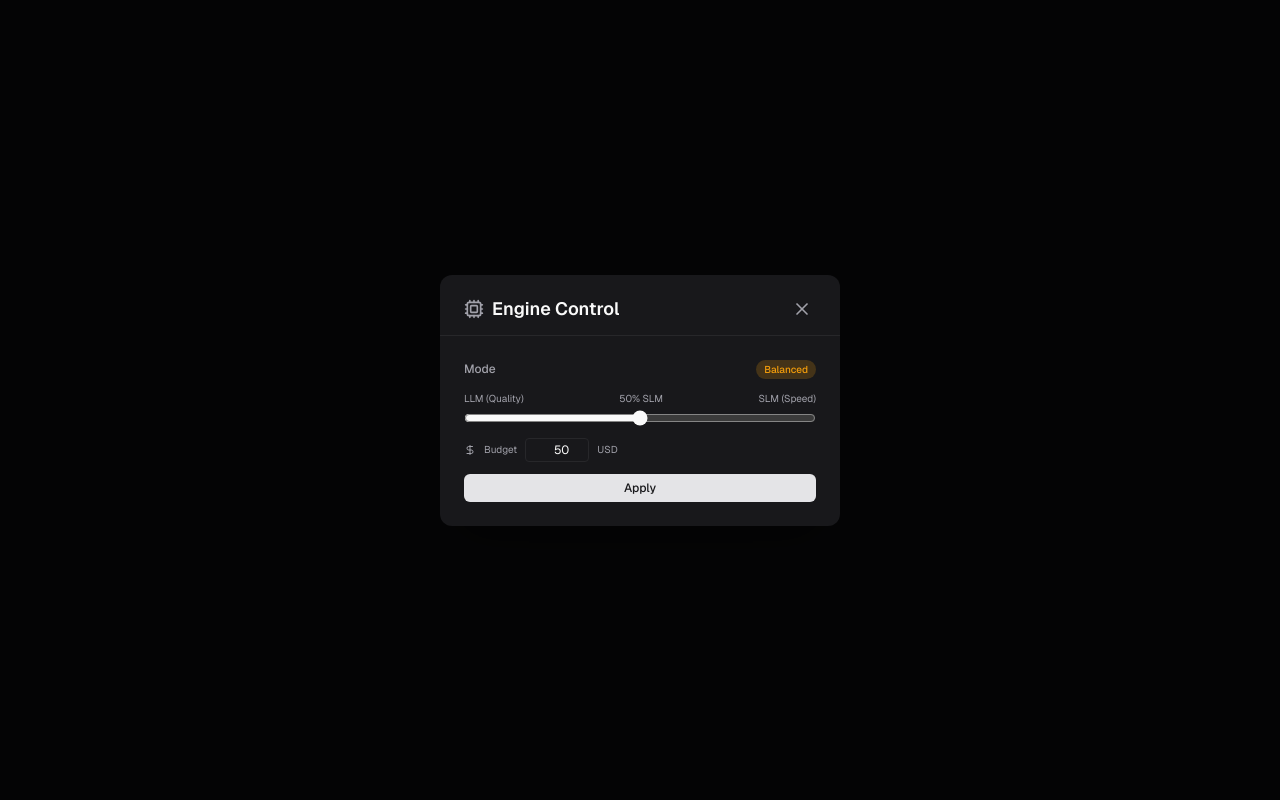
EngineControlPanel › impact display after apply › shows impact indicators after successful apply
The width and height of the screenshot is (1280, 800).
Click the button "Apply" at x=640, y=488, box [464,474,816,502]
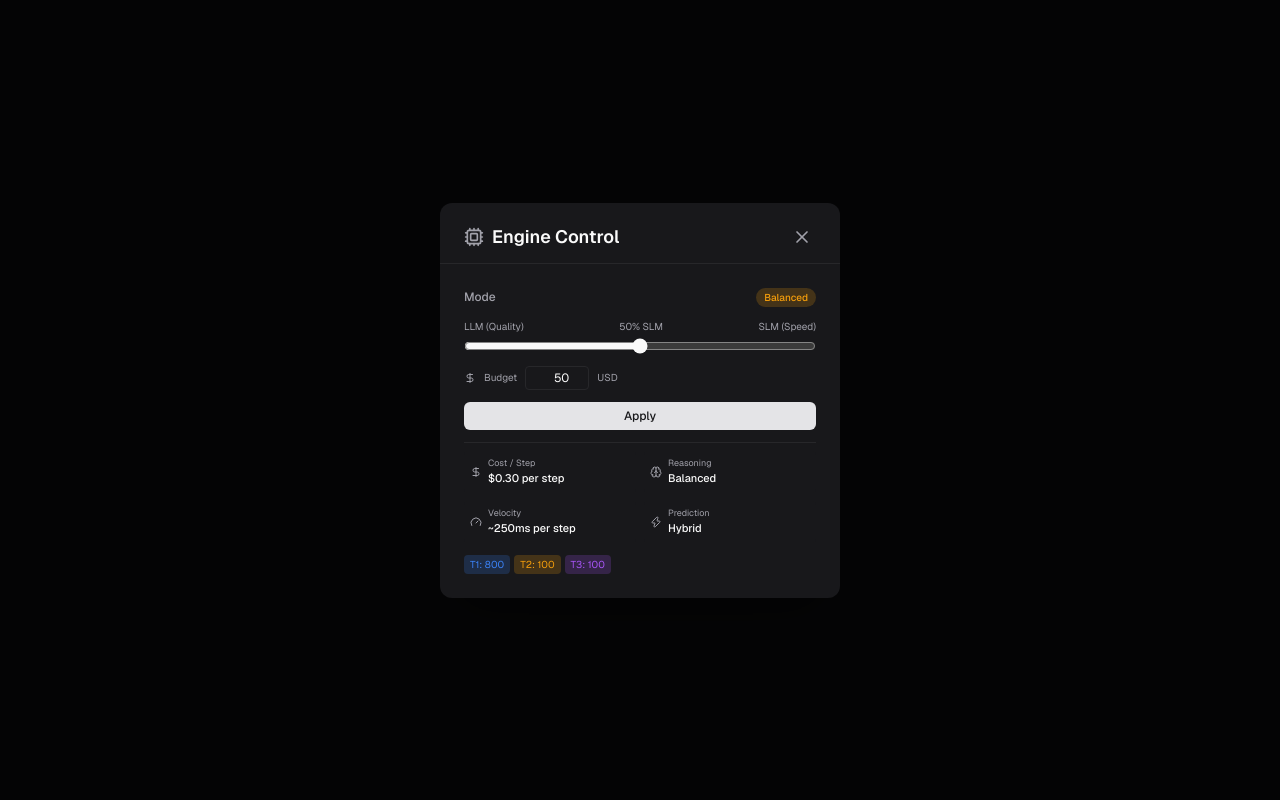
Check: the text "Cost / Step" is shown, box [488,456,535,468]
Check: the text "$0.30 per step" is shown, box [488,470,564,486]
Check: the text "Reasoning" is shown, box [668,456,716,470]
